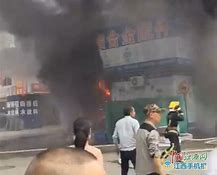smoke: (1, 1, 102, 114)
